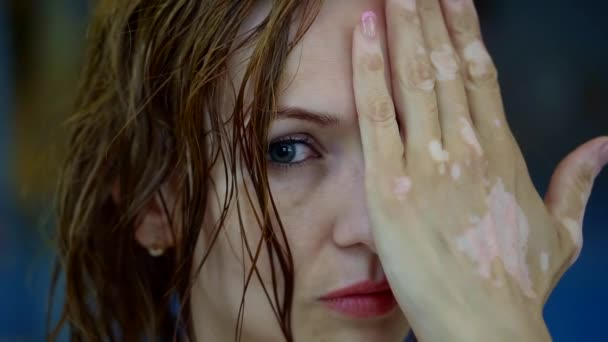Diseased: (355, 19, 589, 289)
